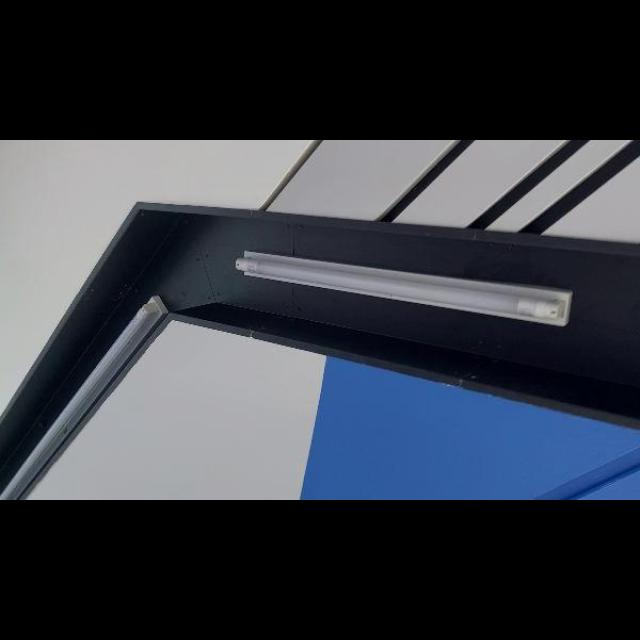Straight-Tube-Fluorescent-Lamp: (0, 282, 184, 500), (226, 229, 590, 331)
